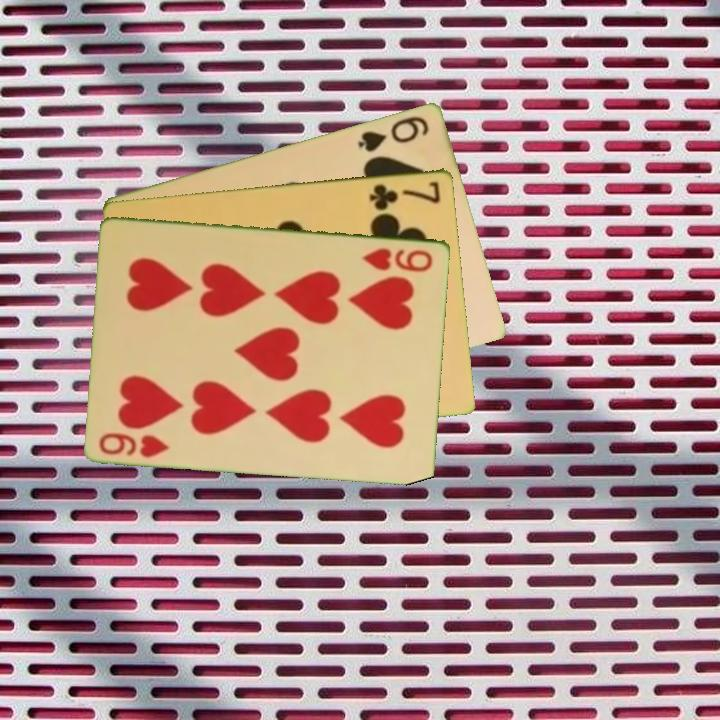6s: (354, 112, 433, 155)
7c: (366, 177, 444, 212)
9h: (359, 244, 436, 275), (96, 429, 172, 460)
